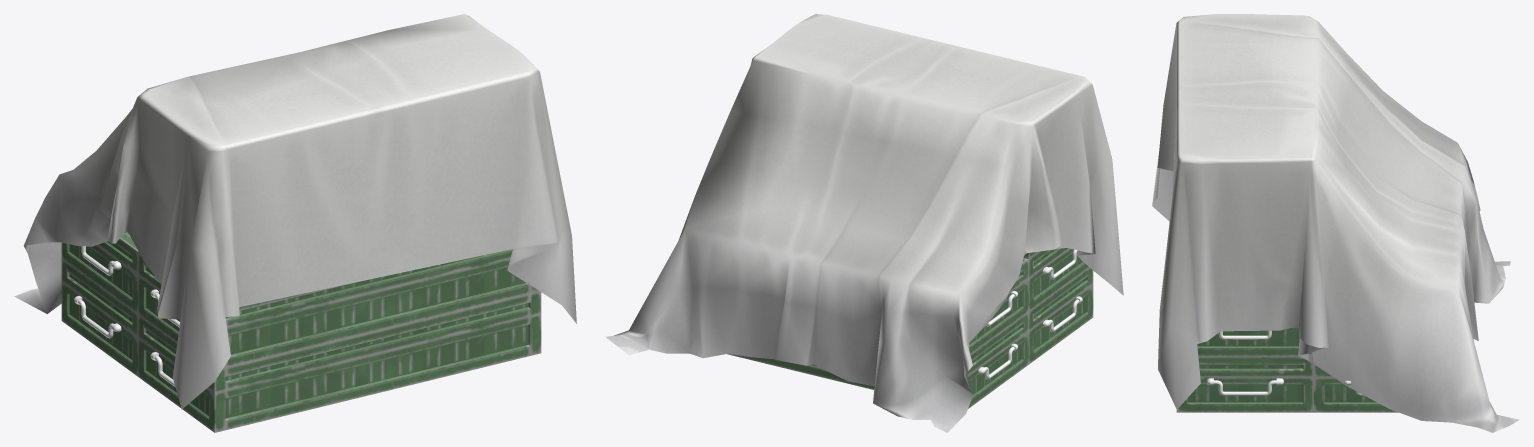
The model's file is Pfb_Box_GRP__11.fbx.
3 views of the same model, side by side, from view 1: azimuth 30°, elevation 25°; view 2: azimuth 150°, elevation 25°; view 3: azimuth 270°, elevation 25° (orthographic). The views are drawn at different scales.
Visible parts, largest first — view 1: MAT_Canvas_02_White, Mat_Lootbox_01; view 2: MAT_Canvas_02_White, Mat_Lootbox_01; view 3: MAT_Canvas_02_White, Mat_Lootbox_01.
Part boxes in pixels (x1,y1,x2,y2): MAT_Canvas_02_White: [14, 14, 576, 409]; Mat_Lootbox_01: [61, 231, 541, 432]; MAT_Canvas_02_White: [605, 14, 1123, 432]; Mat_Lootbox_01: [727, 248, 1093, 408]; MAT_Canvas_02_White: [1152, 14, 1519, 432]; Mat_Lootbox_01: [1176, 326, 1398, 412].
Bounding box in the file's own units: 2.39 × 1.52 × 1.98.
Materials: 2 (2 with a texture image).
